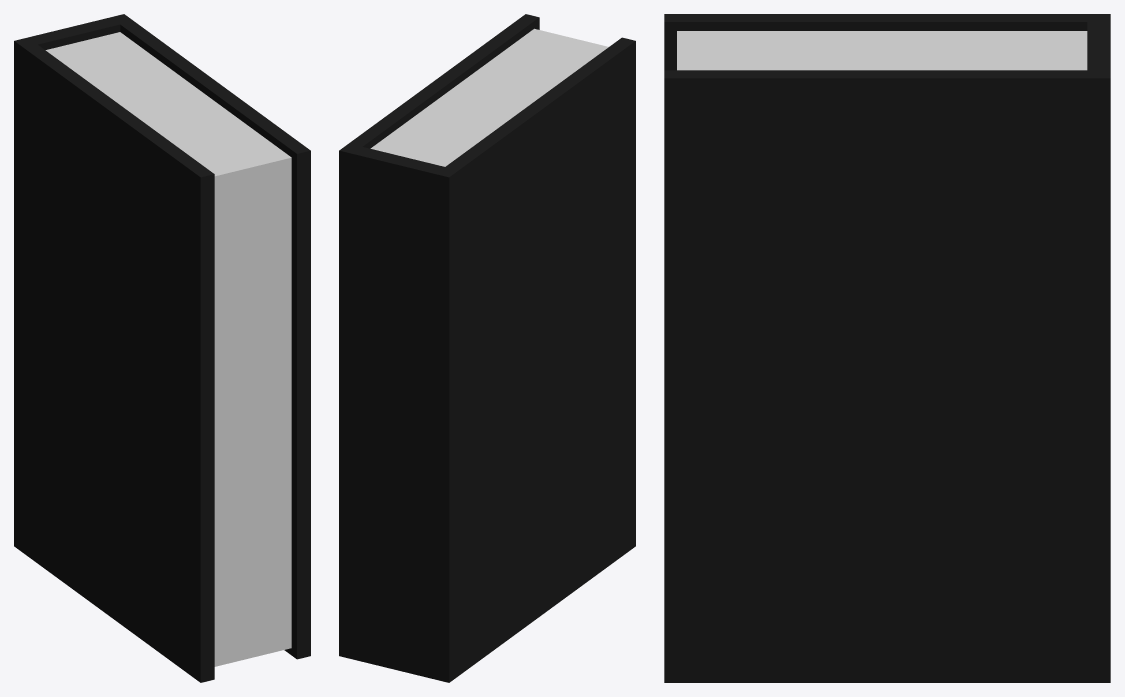
Rendered from book_5.fbx.
3 renders of one model, left to right at view 1: azimuth 30°, elevation 25°; view 2: azimuth 150°, elevation 25°; view 3: azimuth 270°, elevation 25°, orthographic. The views are drawn at different scales.
Visible parts, largest first — view 1: book_5; view 2: book_5; view 3: book_5.
Part boxes in pixels (x1,y1,x2,y2): book_5: (14, 14, 310, 682); book_5: (339, 14, 635, 682); book_5: (664, 14, 1110, 682).
Bounding box in the file's own units: 10.35 × 45.44 × 30.4.
